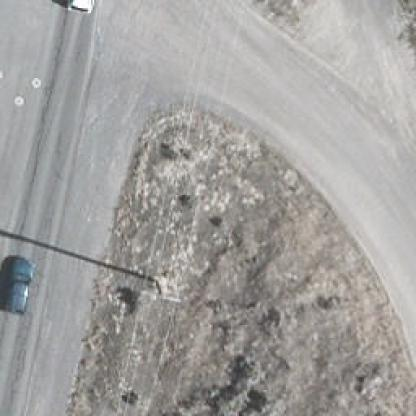car: (0, 256, 34, 316)
